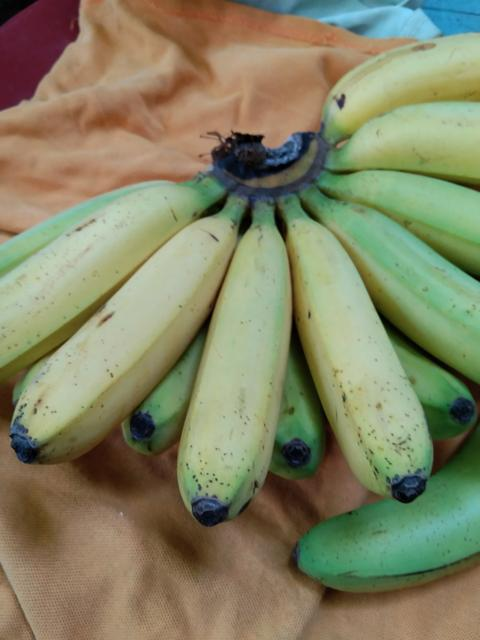freshripe: (279, 207, 431, 500), (160, 222, 301, 535)
ripe: (0, 205, 245, 468)
